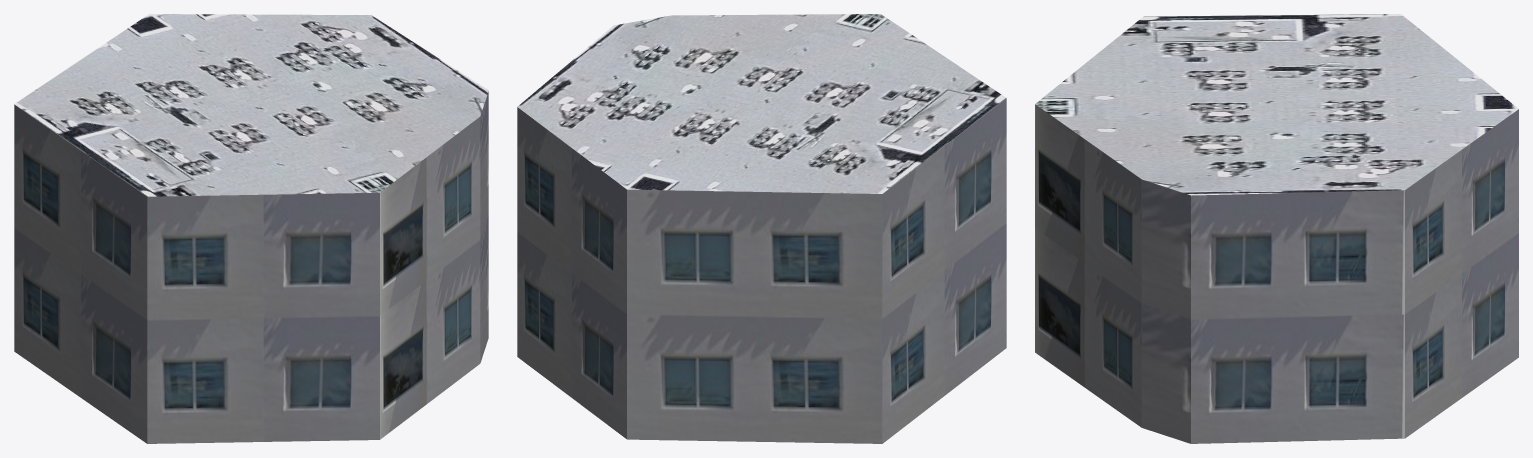
The model's file is ResTex__1954.fbx.
3 renders of one model, left to right at view 1: azimuth 30°, elevation 25°; view 2: azimuth 150°, elevation 25°; view 3: azimuth 270°, elevation 25°, orthographic.
Parts seen in each view (by area): view 1: CityEngineMaterial_10_m, CityEngineMaterial_4_m; view 2: CityEngineMaterial_10_m, CityEngineMaterial_4_m; view 3: CityEngineMaterial_10_m, CityEngineMaterial_4_m.
Boxes of the visible parts, <box> form: CityEngineMaterial_10_m: <box>14,91,488,443</box>; CityEngineMaterial_4_m: <box>14,14,488,196</box>; CityEngineMaterial_10_m: <box>517,98,1006,443</box>; CityEngineMaterial_4_m: <box>517,14,1006,193</box>; CityEngineMaterial_10_m: <box>1035,104,1518,443</box>; CityEngineMaterial_4_m: <box>1035,14,1518,195</box>.
Bounding box in the file's own units: 9.4 × 6 × 10.59.
2 materials, 2 textured.
